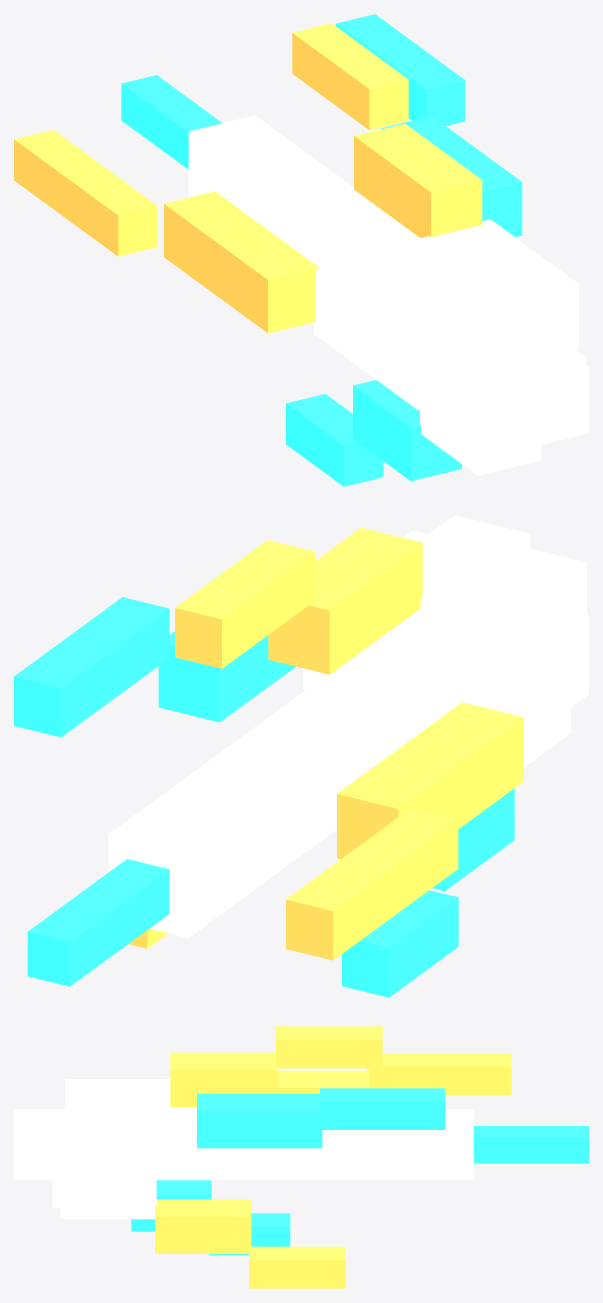
Rendered from muzzle-flash.glb.
3 renders of one model, top to bottom at view 1: azimuth 30°, elevation 25°; view 2: azimuth 150°, elevation 25°; view 3: azimuth 270°, elevation 25°, orthographic. The views are drawn at different scales.
Parts seen in each view (by area): view 1: angular_muzzle_prongs; view 2: angular_muzzle_prongs; view 3: angular_muzzle_prongs.
Boxes of the visible parts, x1,y1,x2,y2 form: angular_muzzle_prongs: (14, 14, 588, 486); angular_muzzle_prongs: (14, 515, 588, 997); angular_muzzle_prongs: (14, 1026, 588, 1288).
Size of the model in its own units: 0.0797 by 0.084 by 0.1825.
